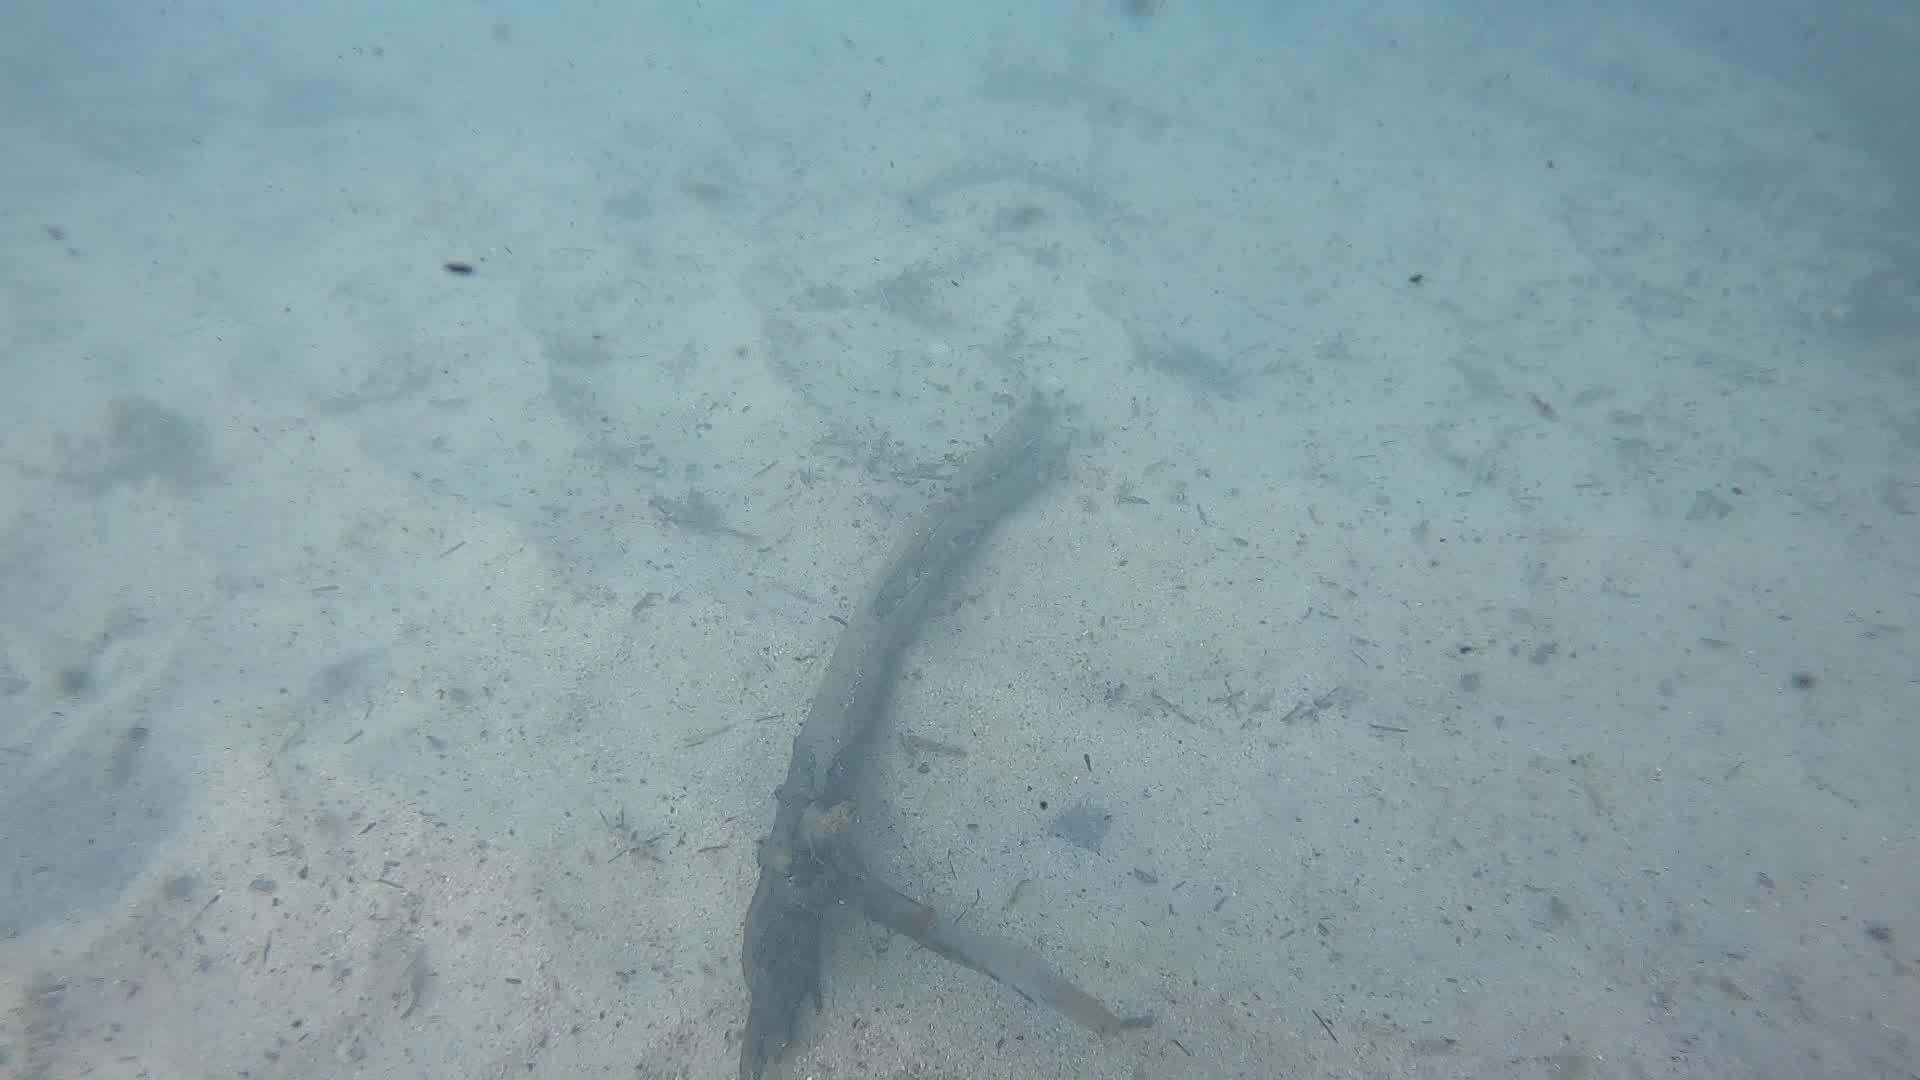wood: (733, 392, 1120, 1065)
